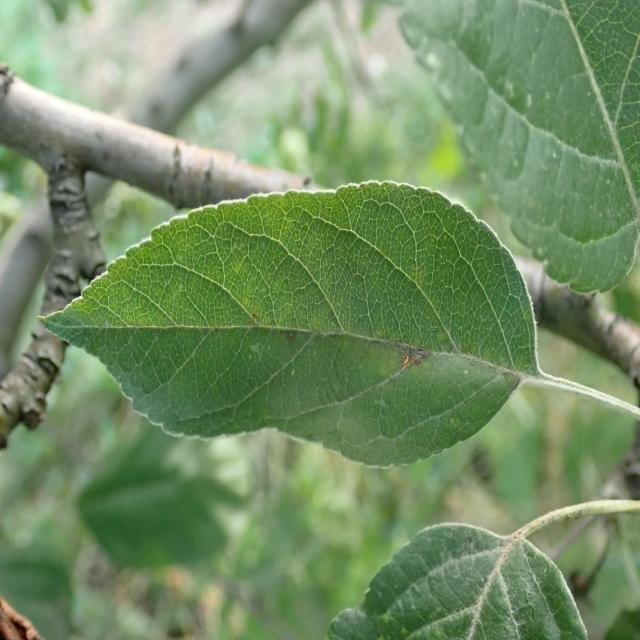scab: (186, 233, 510, 420)
